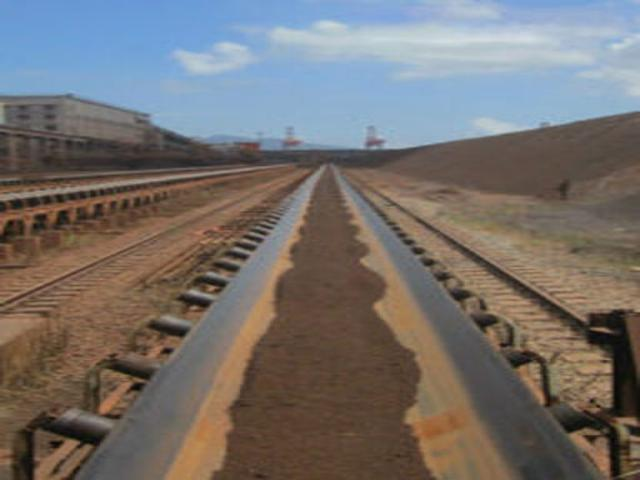conveyor: (0, 157, 639, 479)
